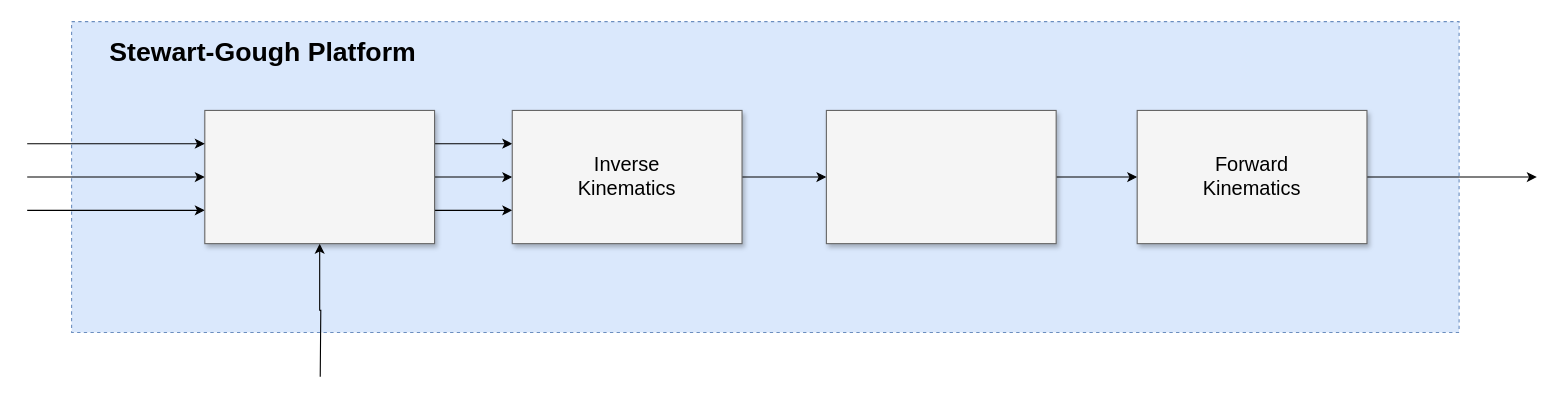
Image size: 1565x406. Some labels were removed from this diagram. The centre of each missing label's shape, as x and y in pixels:
"Impedance Controller" goes at [320,178].
"Servo Drive" goes at [942,178].
